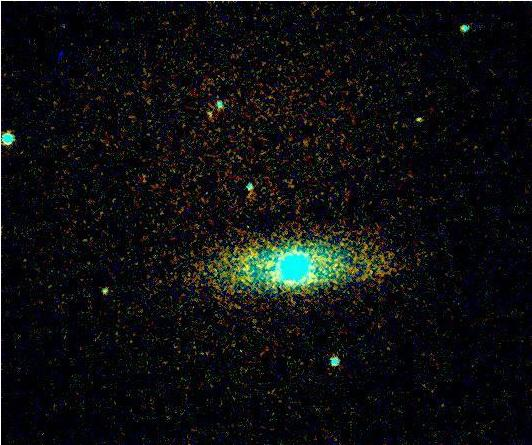star: (404, 103, 434, 133)
